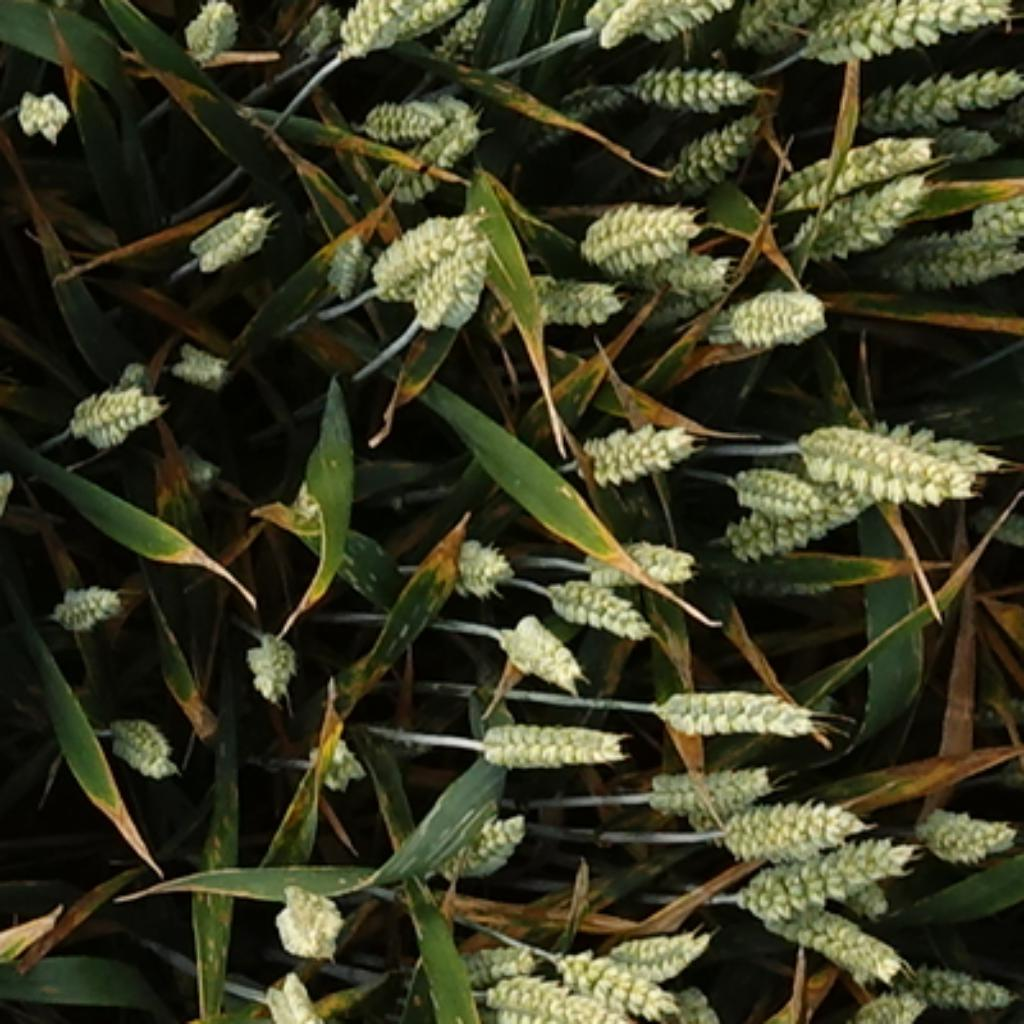0-0: (806, 407, 1021, 491), (791, 422, 995, 509), (724, 453, 883, 560), (732, 829, 911, 921), (762, 130, 936, 222), (801, 2, 1024, 64), (363, 202, 496, 304), (883, 215, 1024, 302), (847, 53, 1016, 125), (647, 675, 829, 737), (762, 896, 903, 975), (791, 174, 931, 253), (366, 115, 478, 212), (465, 704, 632, 768), (394, 235, 496, 335), (724, 796, 877, 860), (570, 407, 701, 481), (550, 947, 686, 1018), (576, 192, 706, 266), (660, 102, 770, 186), (611, 51, 760, 112), (519, 84, 627, 166), (66, 373, 171, 453), (581, 524, 696, 596), (616, 232, 732, 302), (640, 755, 773, 816), (483, 975, 647, 1024), (881, 959, 1009, 1021), (714, 271, 829, 340), (581, 2, 739, 51), (340, 2, 483, 56), (727, 453, 837, 522), (517, 263, 622, 335), (545, 576, 660, 640), (435, 796, 529, 872), (181, 197, 273, 273), (588, 921, 709, 975), (716, 570, 849, 619), (501, 614, 588, 688), (268, 872, 348, 952), (919, 803, 1018, 867), (97, 709, 181, 783), (642, 279, 732, 340), (355, 89, 450, 145), (299, 711, 368, 788), (732, 2, 821, 61), (46, 578, 130, 637), (238, 629, 302, 706), (291, 2, 360, 71), (455, 936, 552, 985), (916, 122, 1011, 171), (266, 965, 343, 1024), (834, 983, 944, 1024), (445, 537, 517, 599), (7, 84, 76, 143), (660, 972, 737, 1024), (430, 2, 488, 71), (176, 2, 245, 56), (163, 330, 232, 384), (317, 222, 368, 294), (430, 87, 499, 138), (967, 192, 1024, 245), (176, 455, 227, 509), (117, 353, 166, 407), (849, 885, 903, 921), (0, 340, 2, 394)
